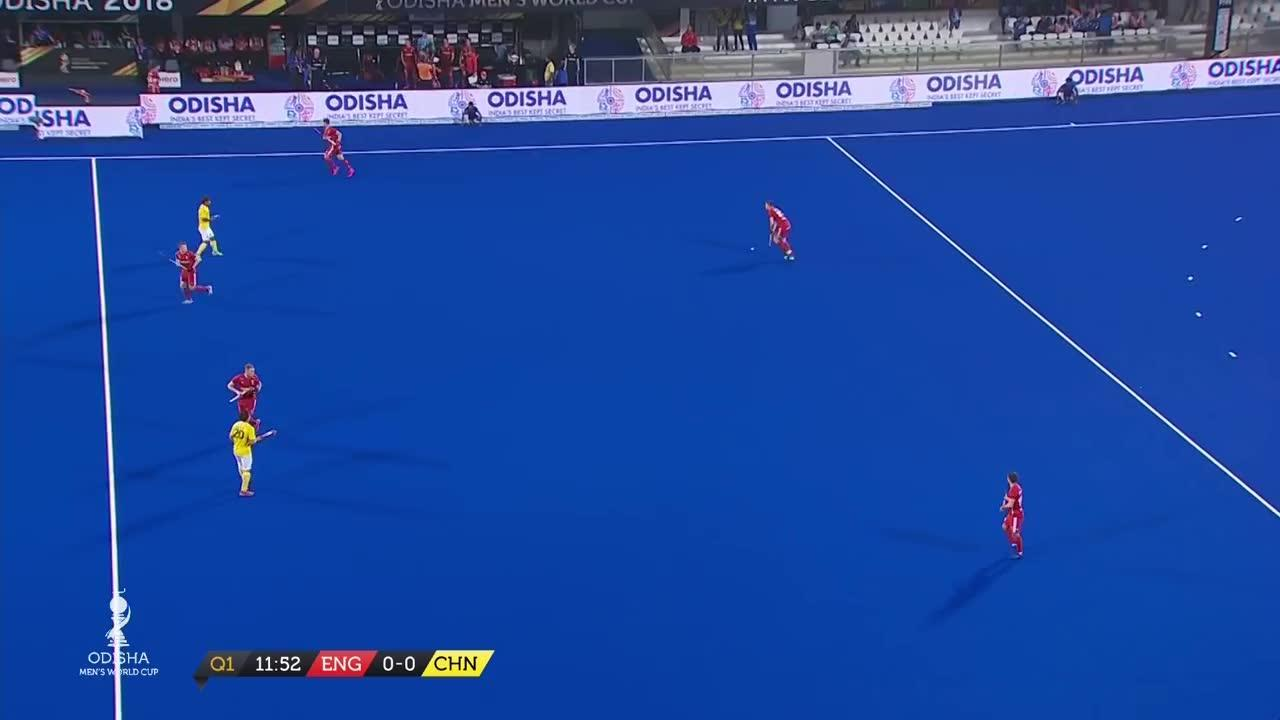ball: (748, 241, 756, 255)
